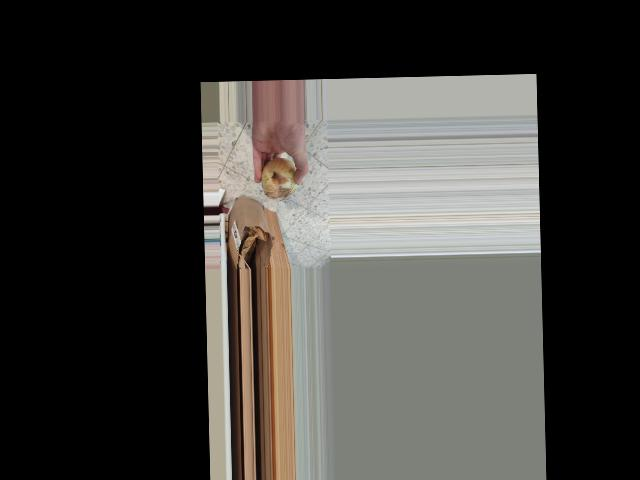onion: (260, 152, 302, 200)
